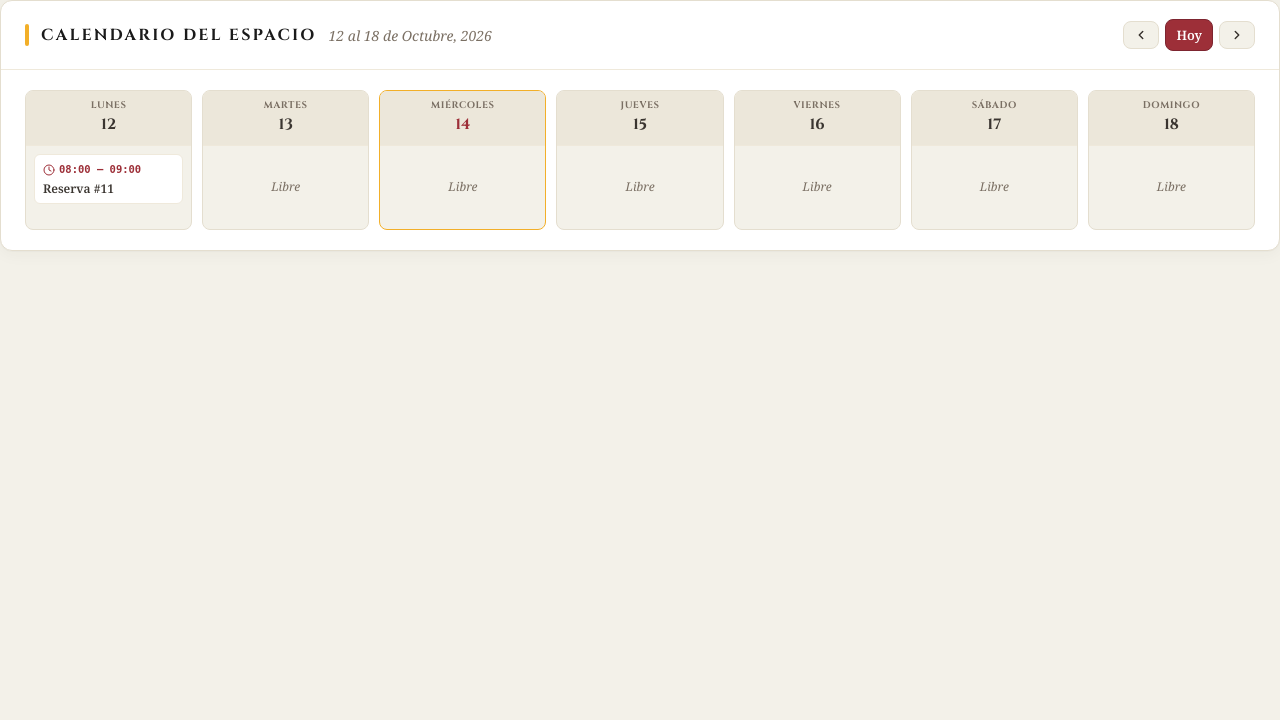
Test: EspacioCalendarioReservas › usa "Reserva #id" como título del detalle cuando no hay evento_titulo, y "Desconocido" sin solicitante_nombre
This screenshot has width=1280, height=720.
Click the text "Reserva #11".
click(78, 188)  # box [43,180,114,196]
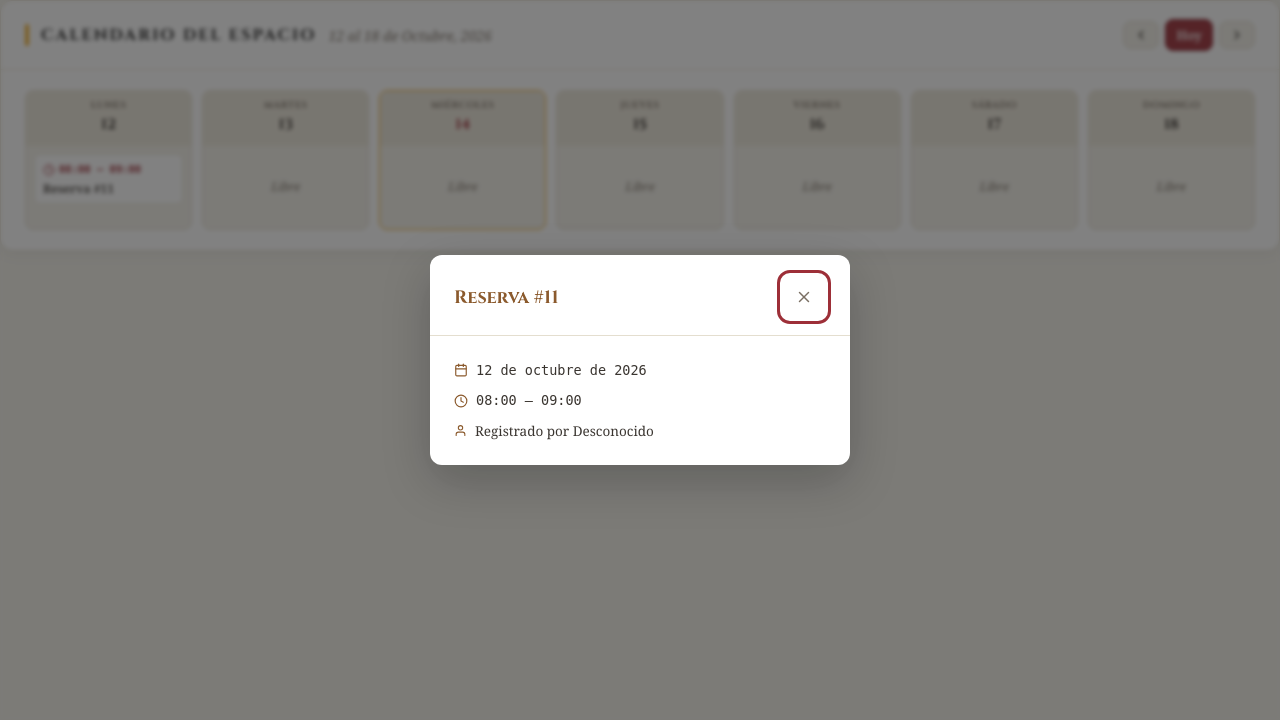
Expected: the heading "Reserva #11" is shown, [454,285,558,310]
Expected: the text "Registrado por Desconocido" is shown, [475,421,654,441]
